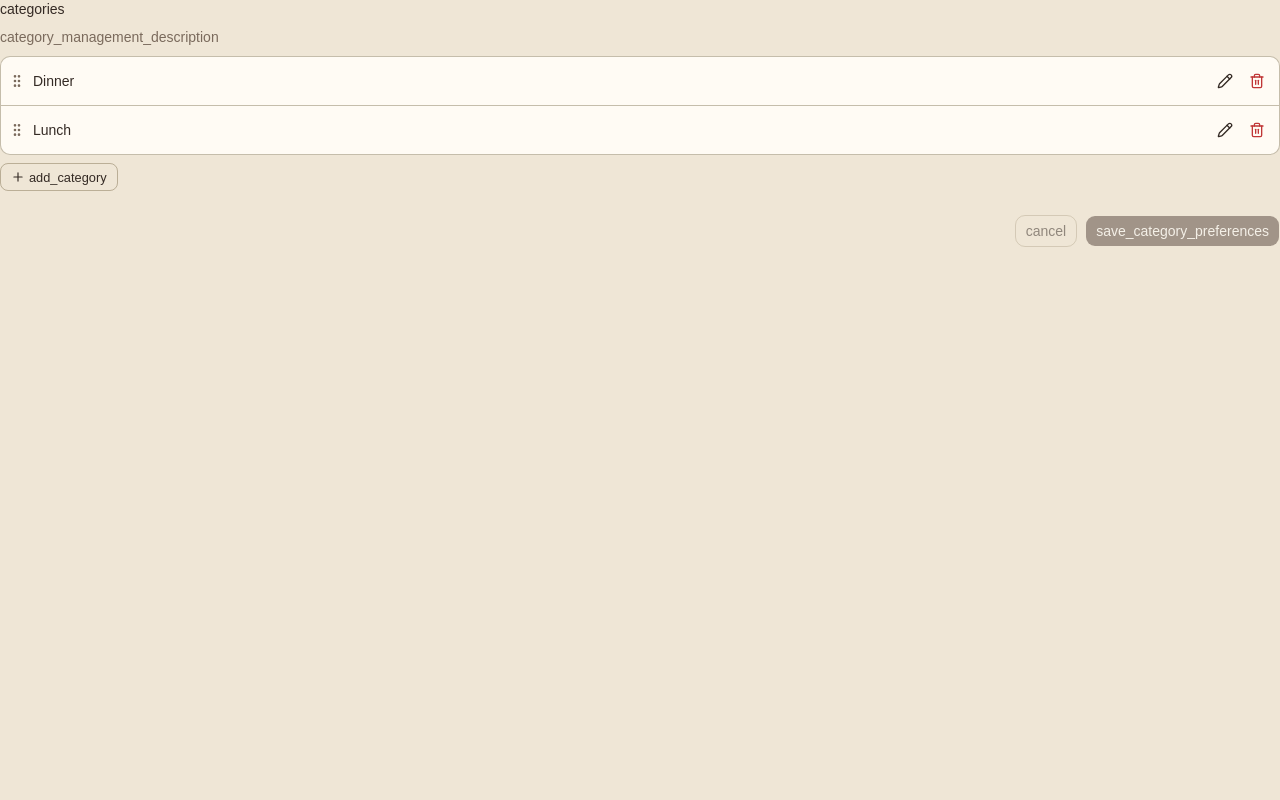
Scenario: CategoriesTab editing › deletes a category only after confirming, then on save
Later steps or results of the test are not shown.
Expected: the text "Dinner" is shown, [33,71,74,91]
Click the button named "delete_category" in the row of "Dinner": (1257, 81) [1243,67,1271,95]
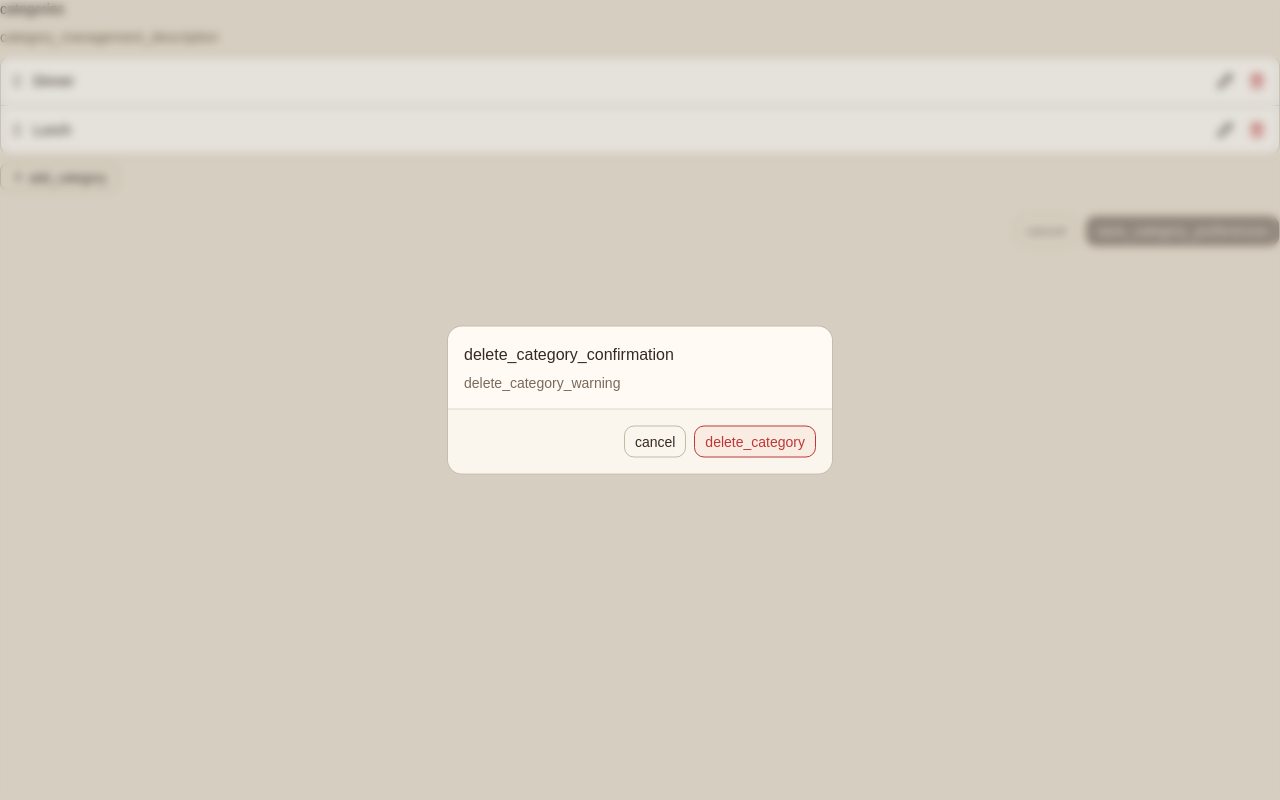
Click the button "cancel": (655, 442) [624,426,686,458]
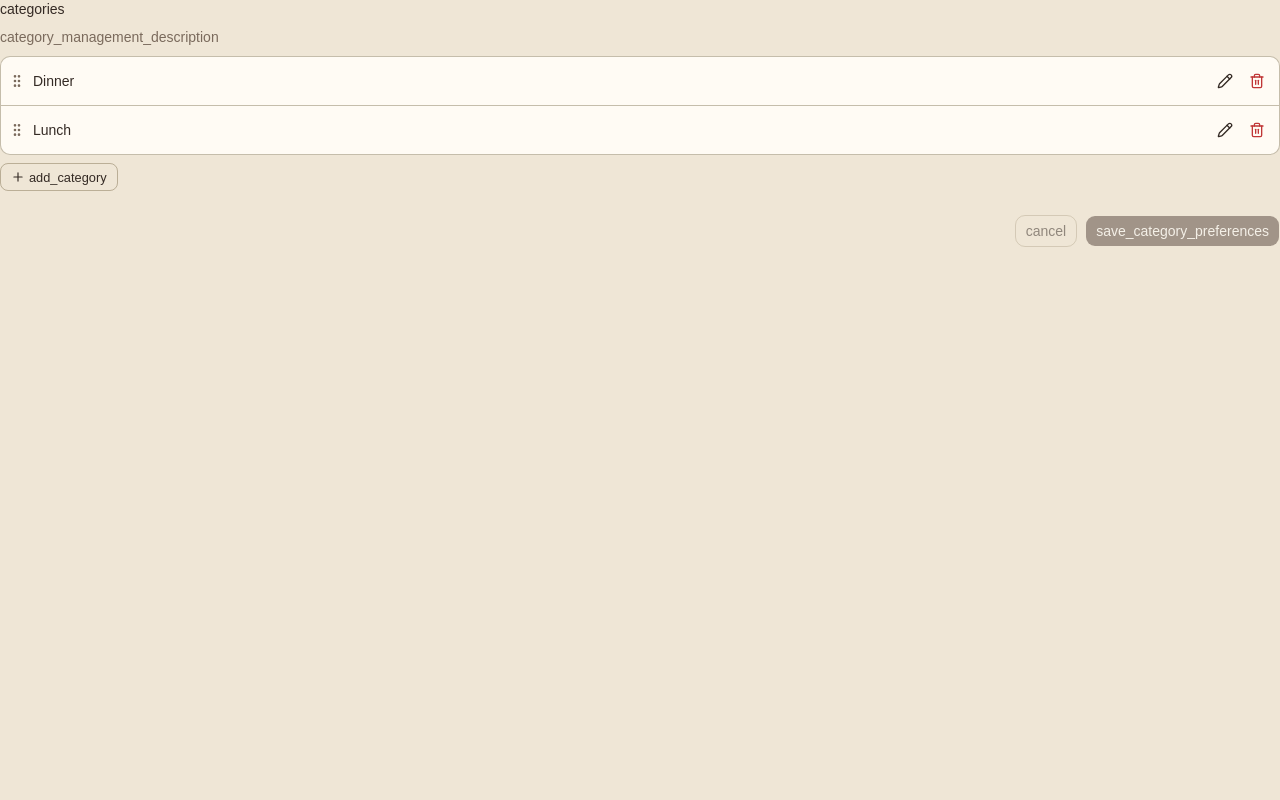
Expected: the text "Dinner" is shown, [33,71,74,91]
Result: the dialog is gone
Click the button named "delete_category" in the row of "Dinner": (1257, 81) [1243,67,1271,95]
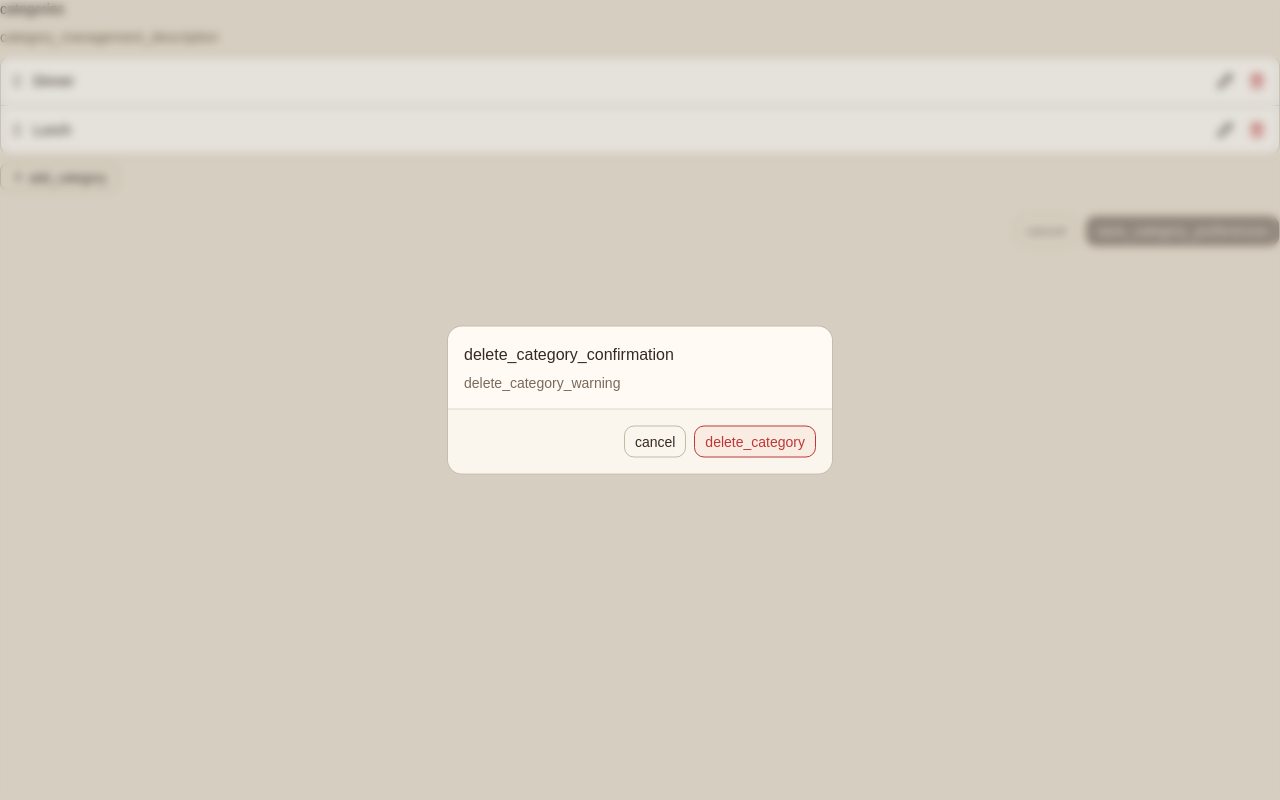
Result: the dialog shows "delete_category_confirmation" at [464,346,674,362]
